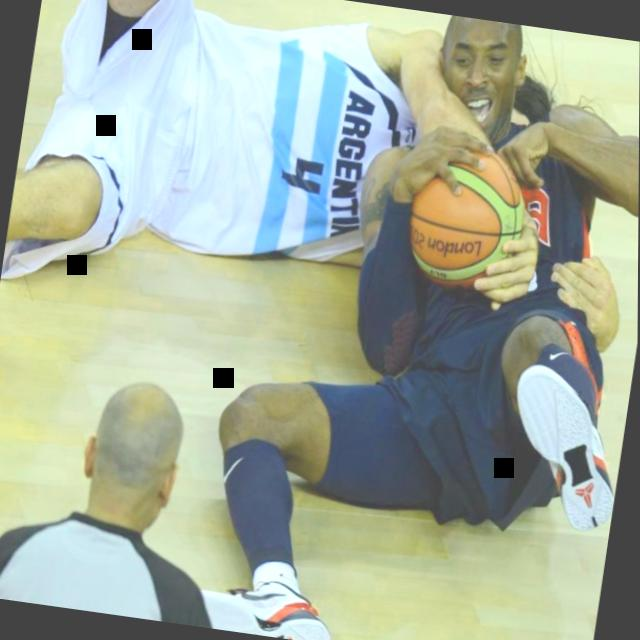Fall-Detected: (125, 0, 640, 640)
